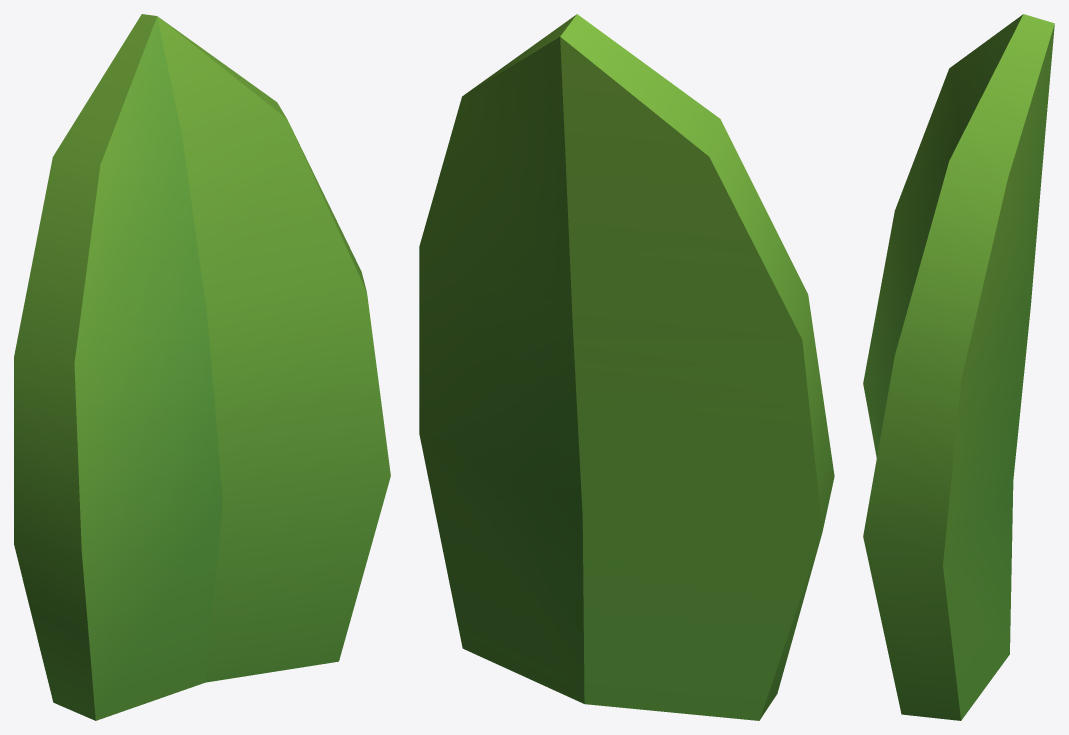
The model's file is Grass1A.glb.
The picture shows the model from 3 angles, left to right: view 1: azimuth 30°, elevation 25°; view 2: azimuth 150°, elevation 25°; view 3: azimuth 270°, elevation 25°; orthographic projection. The views are drawn at different scales.
Parts seen in each view (by area): view 1: Grass_1_A_Color1; view 2: Grass_1_A_Color1; view 3: Grass_1_A_Color1.
Part boxes in pixels (x1,y1,x2,y2): Grass_1_A_Color1: (14,14,390,720); Grass_1_A_Color1: (419,14,834,720); Grass_1_A_Color1: (863,14,1054,720).
Size of the model in its own units: 0.3393 by 0.5593 by 0.1518.
1 material, 1 textured.
